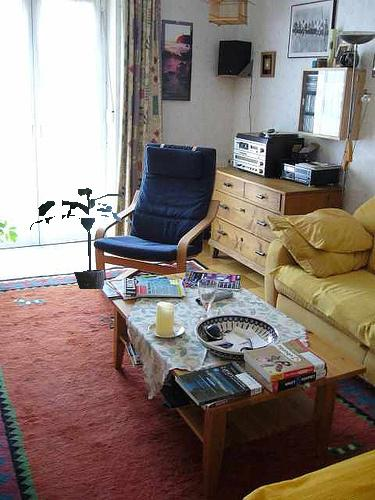tampered: (31, 189, 132, 289)
